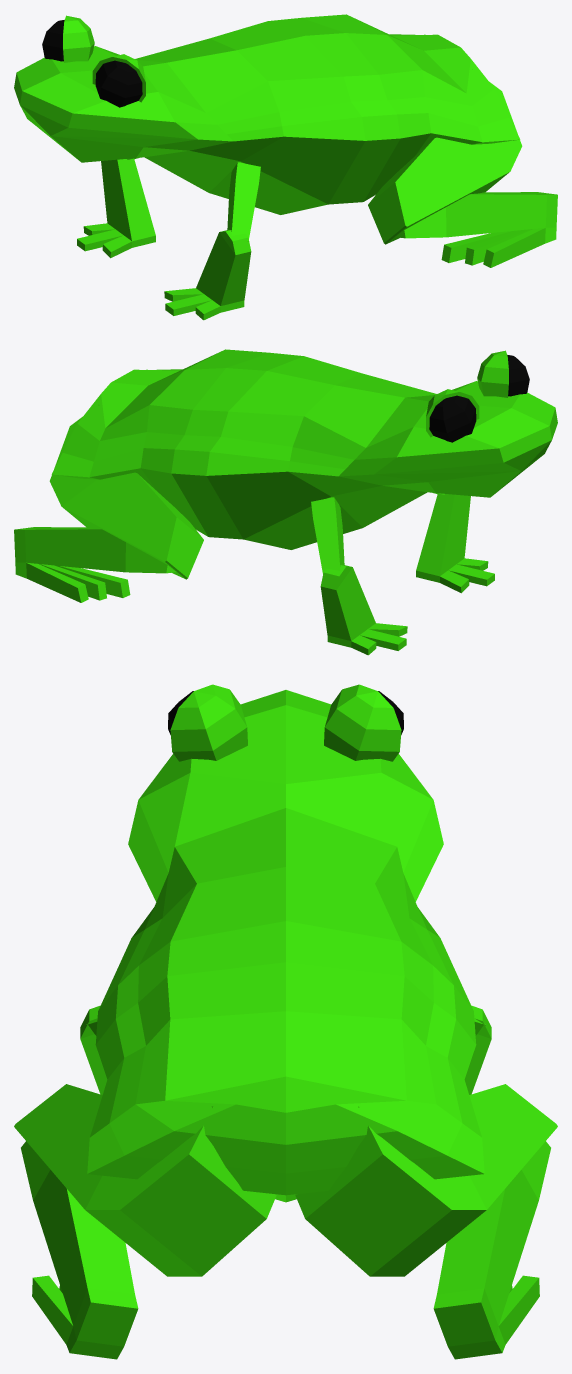
Rendered from Frog.glb.
3 views of the same model, one above another, from view 1: azimuth 30°, elevation 25°; view 2: azimuth 150°, elevation 25°; view 3: azimuth 270°, elevation 25° (orthographic). The views are drawn at different scales.
Parts seen in each view (by area): view 1: Cube, Eyes, Eyelids; view 2: Cube, Eyes, Eyelids; view 3: Cube, Eyelids.
Part boxes in pixels (box(x1,y1,x2,y2)): Cube: box(14, 14, 557, 320); Eyes: box(42, 20, 142, 107); Eyelids: box(63, 15, 145, 102); Cube: box(14, 349, 557, 655); Eyes: box(429, 355, 529, 442); Eyelids: box(426, 350, 508, 437); Cube: box(14, 690, 557, 1359); Eyelids: box(170, 684, 401, 761).
Size of the model in its own units: 11.35 by 5.78 by 7.4.
